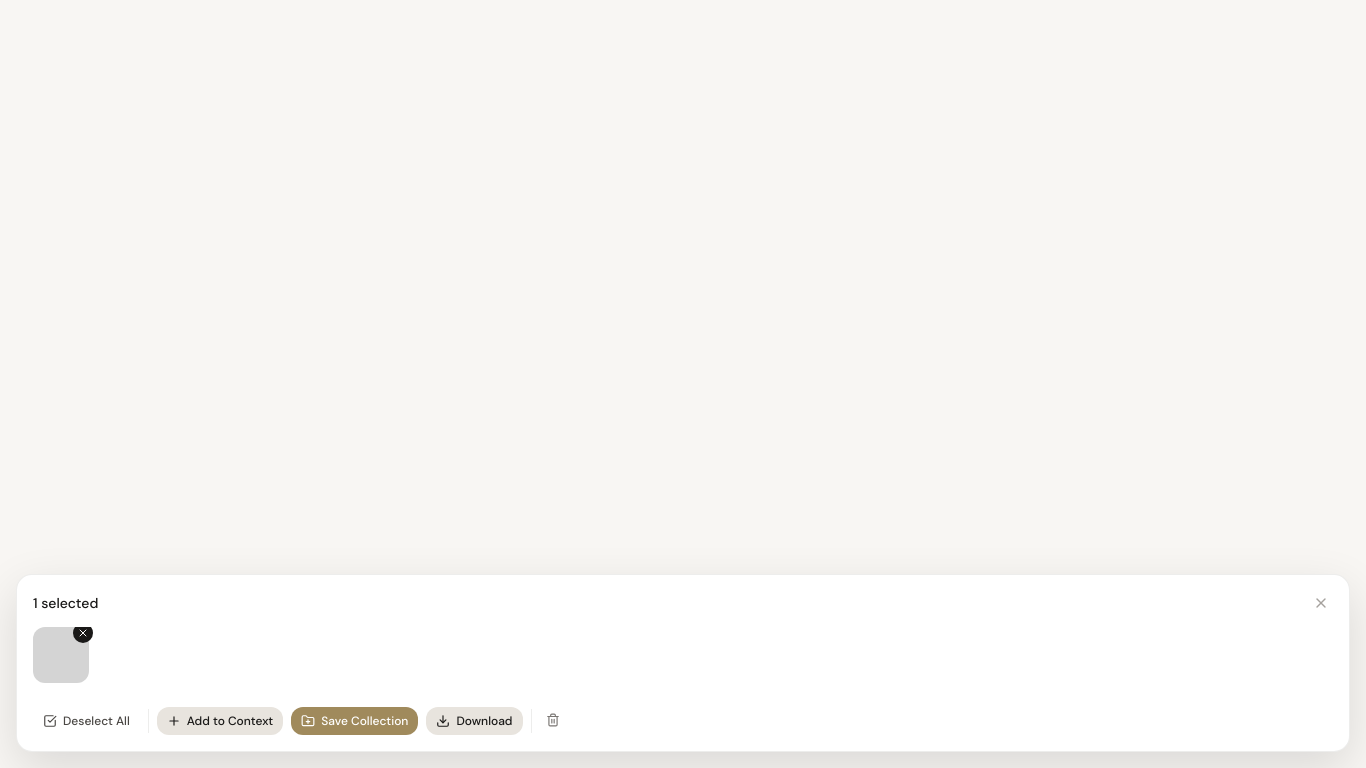
it: SelectionTray › collection dialog › should show existing collections when they exist
Click the button "Save Collection" at (355, 721), box [291,707,418,735]
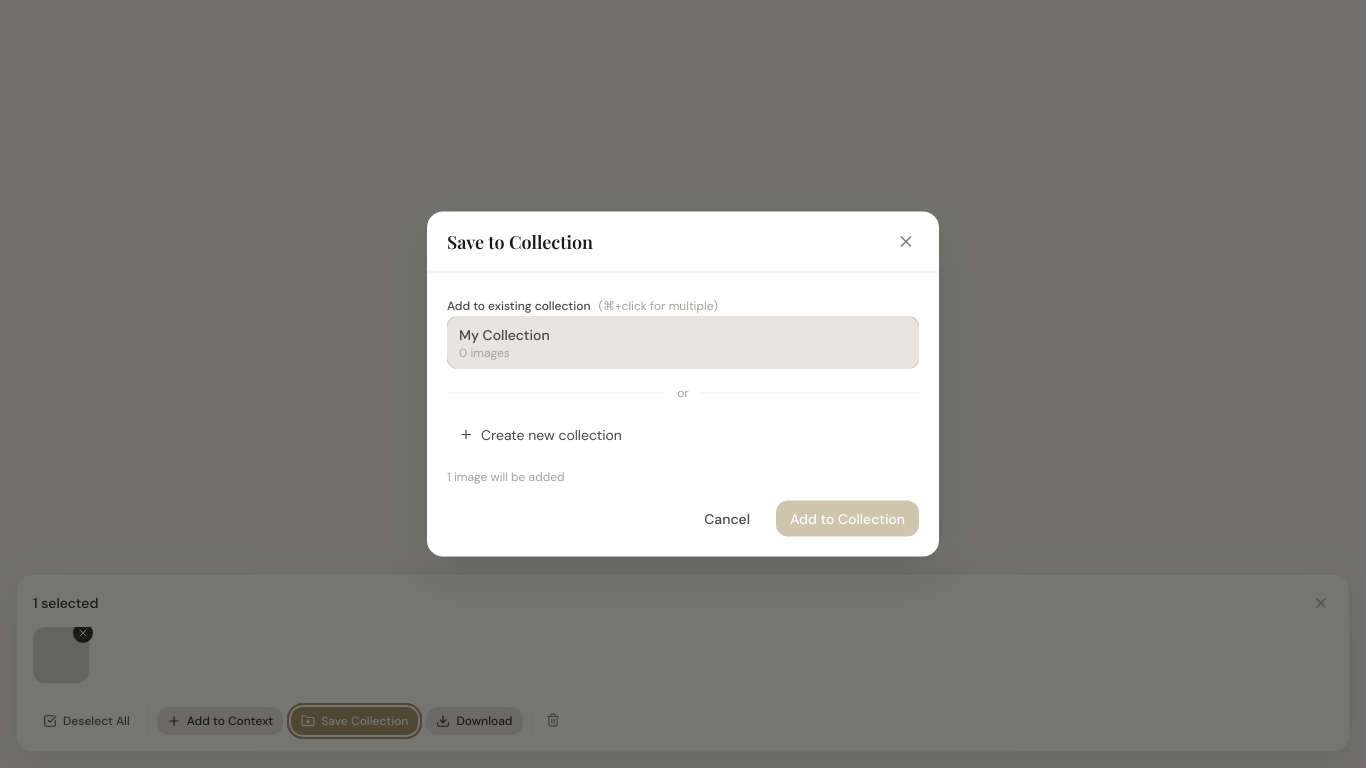
Expected: the text "My Collection" is shown, [459,324,550,344]
Expected: the button "Create new collection" is shown, [447,416,919,452]
